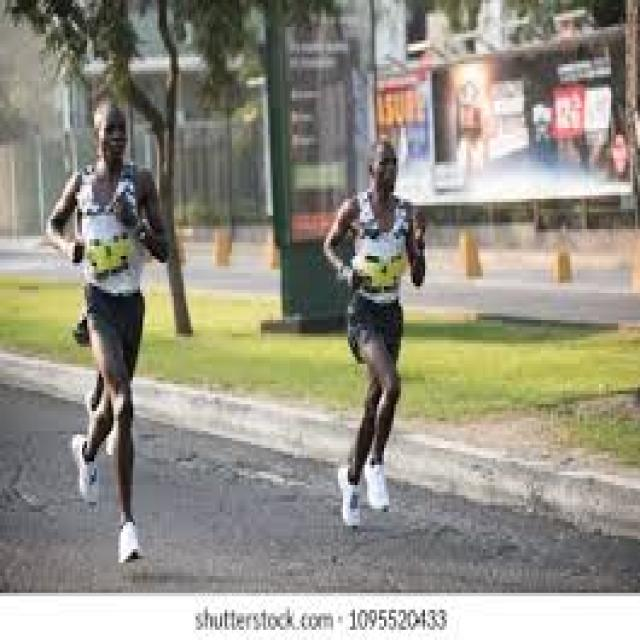running: (47, 98, 173, 562), (324, 135, 433, 529)
